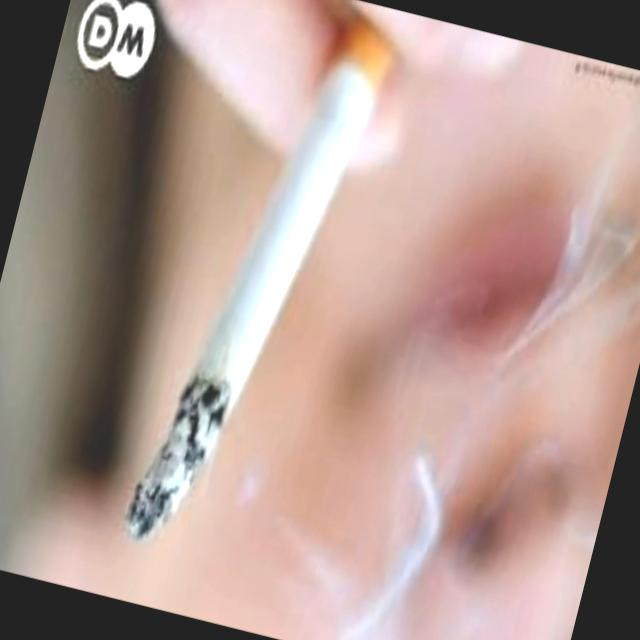smoke: (111, 0, 468, 601)
